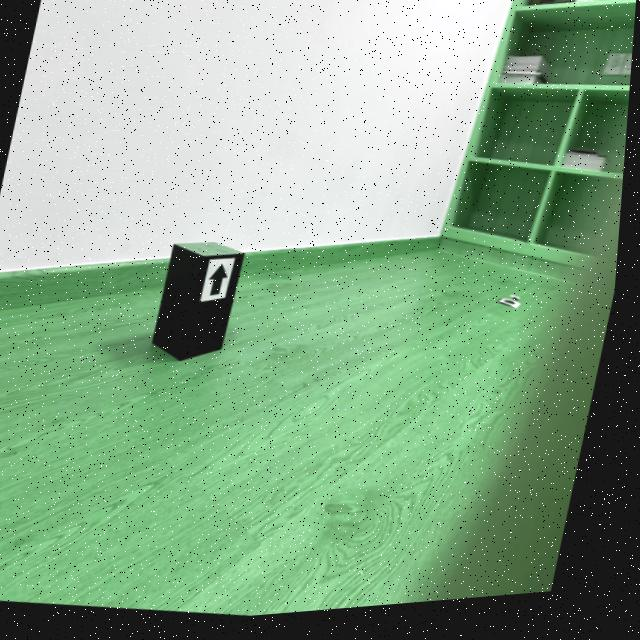UP: (214, 268, 233, 300)
